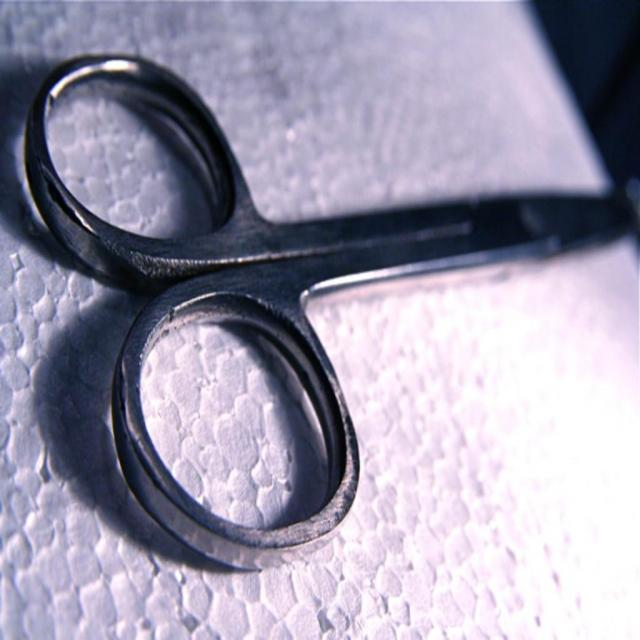scissor: (22, 45, 639, 571)
